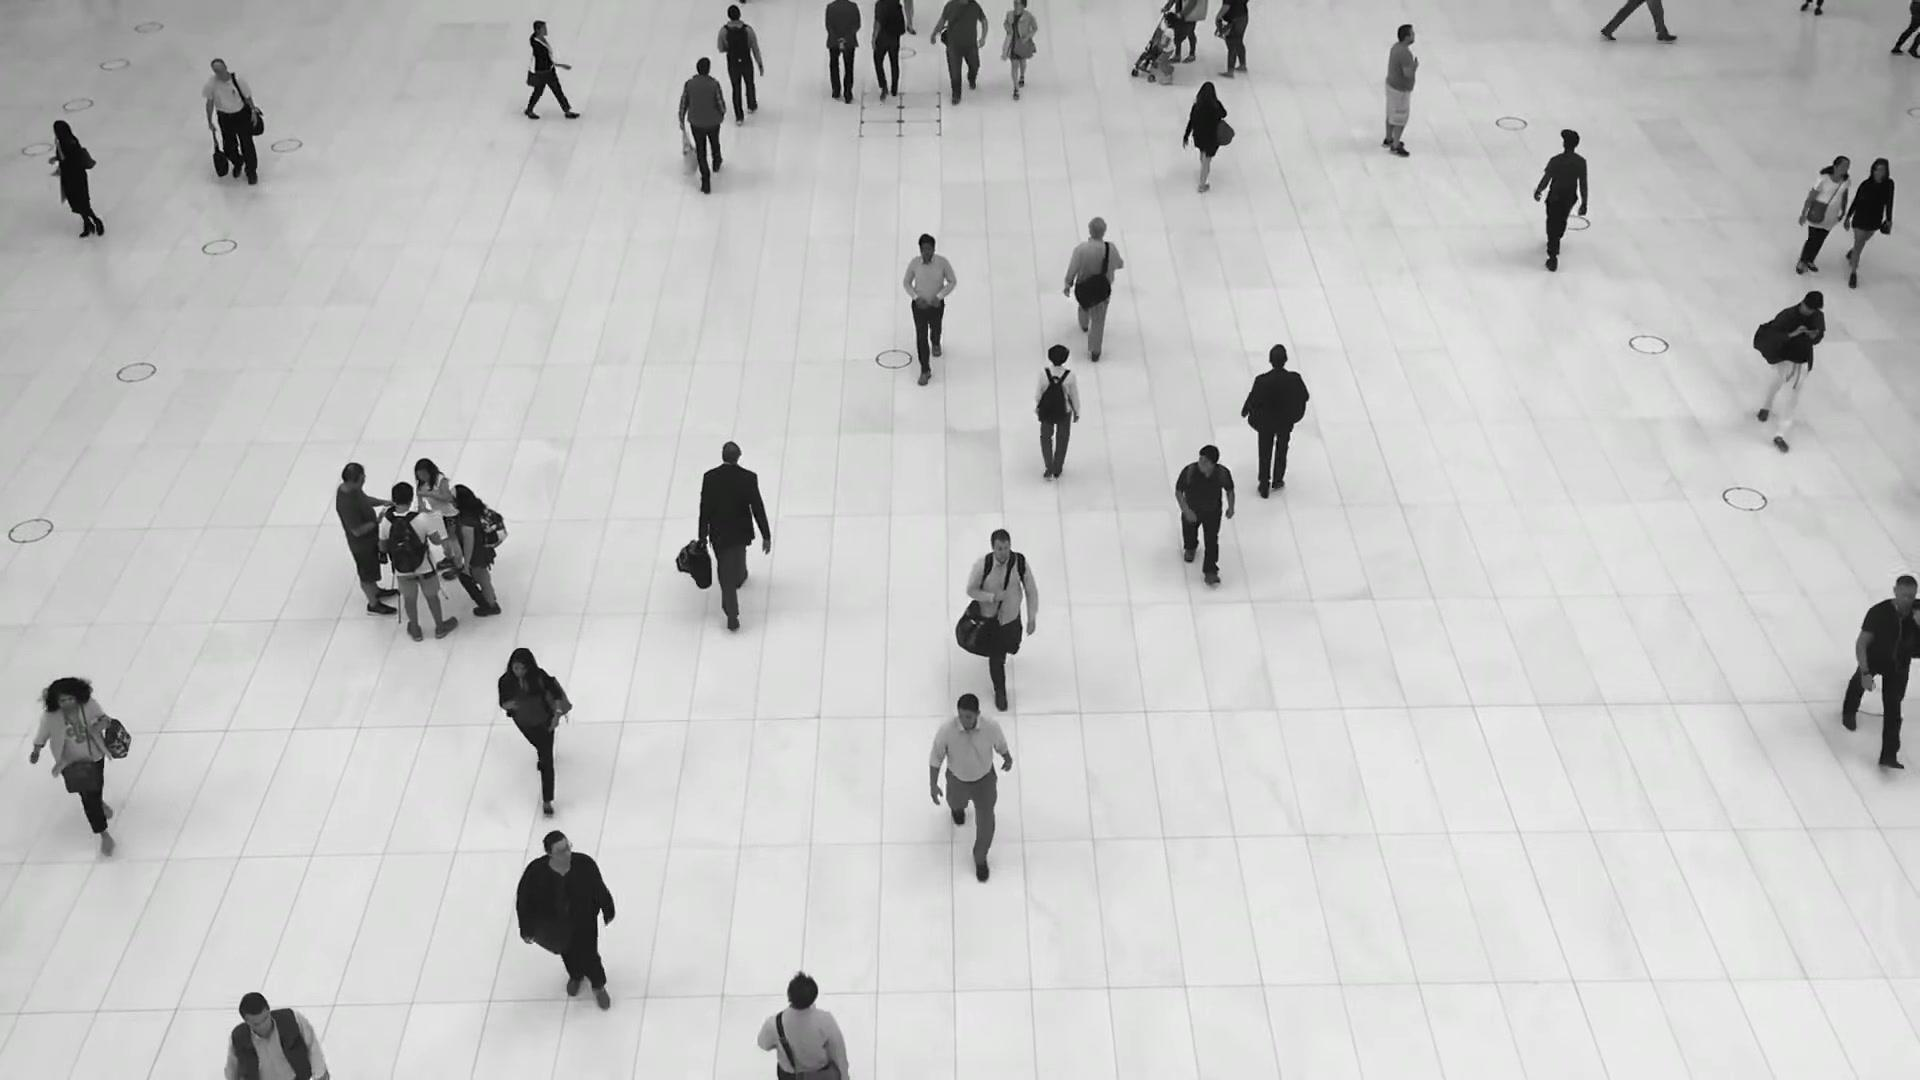person: (516, 829, 617, 1027), (1837, 575, 1919, 773), (926, 687, 1015, 865), (29, 672, 119, 838), (698, 439, 771, 621), (965, 523, 1038, 704), (378, 481, 459, 641), (497, 643, 574, 807), (1752, 288, 1827, 444), (1244, 348, 1310, 512), (756, 971, 848, 1080), (335, 465, 400, 615), (1173, 443, 1237, 589), (227, 986, 325, 1080), (899, 229, 960, 378), (1064, 218, 1123, 367), (1532, 128, 1589, 277), (201, 57, 258, 187), (1792, 155, 1850, 281), (449, 484, 502, 617), (49, 117, 107, 240), (1032, 346, 1081, 490), (1841, 155, 1895, 283), (678, 56, 727, 193), (932, 0, 991, 104), (1183, 81, 1235, 195), (717, 6, 764, 130), (1381, 23, 1421, 157), (519, 17, 572, 119), (418, 457, 459, 580), (823, 0, 861, 107), (868, 0, 905, 102), (1000, 0, 1038, 98), (1154, 12, 1178, 85)
